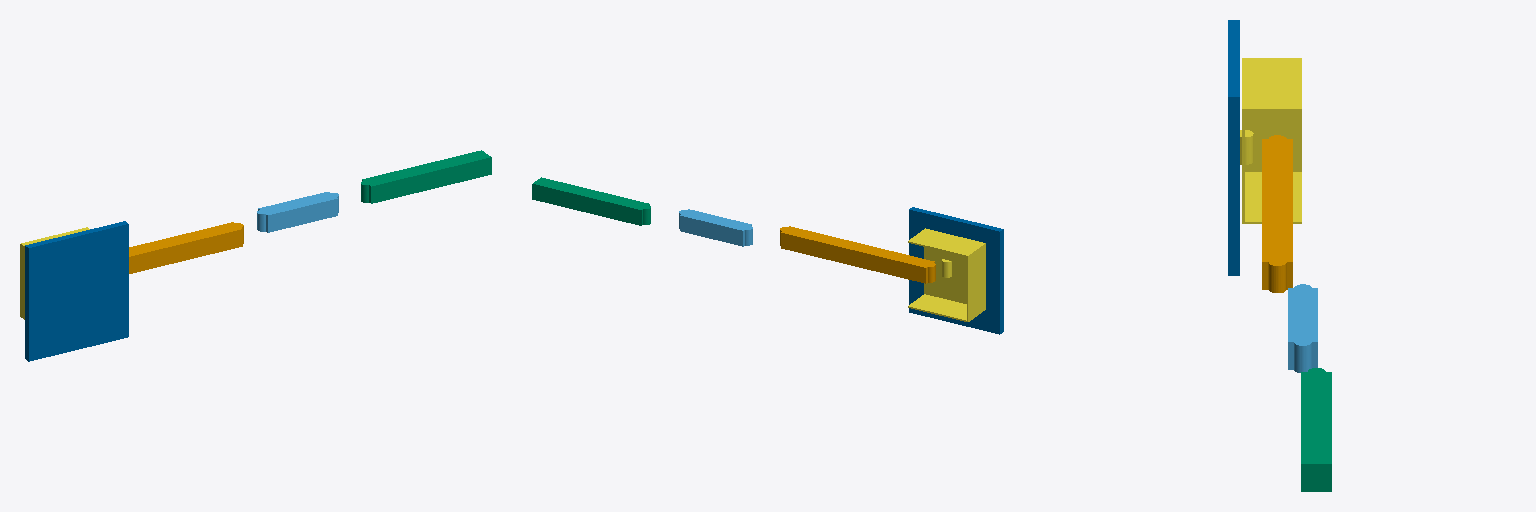
The robot description file, URDF, robot "dupe_arm":
<?xml version = "1.0" ?>
<robot name = "dupe_arm">

    <link name = "link1_1">
        <visual>
            <origin xyz = "0.194096 0.117658 -0.012500" rpy = "0 0 0"/>
            <geometry>
                <mesh filename = "package://trial_links/meshes/link1_1.stl" scale = "0.01 0.01 0.01"/>
            </geometry>
        </visual>
        <collision>
            <origin xyz = "0.194096 0.117658 -0.012500" rpy = "0 0 0"/>
            <geometry>
                <mesh filename = "package://trial_links/meshes/link1_1.stl" scale = "0.01 0.01 0.01"/>
            </geometry>
        </collision>
        <inertial>
            <origin xyz = "0.194096 0.117658 -0.012500" rpy = "0 0 0"/>
            <mass value = "9.697442"/>
            <inertia ixx = "0.002042" ixy = "-0.003134" ixz = "0.000235" iyy = "0.005022" iyz = "0.000143" izz = "0.006993"/>
        </inertial>
    </link>
    
    <link name = "link2_1">
        <visual>
            <origin xyz = "0.492115 0.282493 -0.012500" rpy = "0 0 0"/>
            <geometry>
                <mesh filename = "package://trial_links/meshes/link2_1.stl" scale = "0.01 0.01 0.01"/>
            </geometry>
        </visual>
        <collision>
            <origin xyz = "0.492115 0.282493 -0.012500" rpy = "0 0 0"/>
            <geometry>
                <mesh filename = "package://trial_links/meshes/link2_1.stl" scale = "0.01 0.01 0.01"/>
            </geometry>
        </collision>
        <inertial>
            <origin xyz = "0.492115 0.282493 -0.012500" rpy = "0 0 0"/>
            <mass value = "4.398692"/>
            <inertia ixx = "0.003547" ixy = "-0.006159" ixz = "0.000271" iyy = "0.010843" iyz = "0.000155" izz = "0.014358"/>
        </inertial>
    </link>
    
    <link name = "link3_1">
        <visual>
            <origin xyz = "0.728676 0.196274 -0.012500" rpy = "0 0 0"/>
            <geometry>
                <mesh filename = "package://trial_links/meshes/link3_1.stl" scale = "0.01 0.01 0.01"/>
            </geometry>
        </visual>
        <collision>
            <origin xyz = "0.728676 0.196274 -0.012500" rpy = "0 0 0"/>
            <geometry>
                <mesh filename = "package://trial_links/meshes/link3_1.stl" scale = "0.01 0.01 0.01"/>
            </geometry>
        </collision>
        <inertial>
            <origin xyz = "0.728676 0.196274 -0.012500" rpy = "0 0 0"/>
            <mass value = "7.203721"/>
            <inertia ixx = "0.003145" ixy = "-0.009911" ixz = "0.000656" iyy = "0.038757" iyz = "0.000177" izz = "0.041850"/>
        </inertial>
    </link>
    
    <link name = "base_plate_1">
        <visual>
            <origin xyz = "-0.043862 0.004869 -0.012500" rpy = "0 0 0"/>
            <geometry>
                <mesh filename = "package://trial_links/meshes/base_plate_1.stl" scale = "0.01 0.01 0.01"/>
            </geometry>
        </visual>
        <collision>
            <origin xyz = "-0.043862 0.004869 -0.012500" rpy = "0 0 0"/>
            <geometry>
                <mesh filename = "package://trial_links/meshes/base_plate_1.stl" scale = "0.01 0.01 0.01"/>
            </geometry>
        </collision>
        <inertial>
            <origin xyz = "-0.043862 0.004869 -0.012500" rpy = "0 0 0"/>
            <mass value = "4.102668"/>
            <inertia ixx = "0.000292" ixy = "0.000026" ixz = "-0.000022" iyy = "0.000494" iyz = "0.000002" izz = "0.000288"/>
        </inertial>
    </link>
    
    <link name = "base_link">
        <visual>
            <origin xyz = "-0.025000 -0.035000 -0.012500" rpy = "0 0 0"/>
            <geometry>
                <mesh filename = "package://trial_links/meshes/base_link.stl" scale = "0.01 0.01 0.01"/>
            </geometry>
        </visual>
        <collision>
            <origin xyz = "-0.025000 -0.035000 -0.012500" rpy = "0 0 0"/>
            <geometry>
                <mesh filename = "package://trial_links/meshes/base_link.stl" scale = "0.01 0.01 0.01"/>
            </geometry>
        </collision>
        <inertial>
            <origin xyz = "-0.025000 -0.035000 -0.012500" rpy = "0 0 0"/>
            <mass value = "15.307500"/>
            <inertia ixx = "0.001564" ixy = "-0.000134" ixz = "-0.000048" iyy = "0.002615" iyz = "-0.000067" izz = "0.001436"/>
        </inertial>
    </link>
    
    <joint name = "Revolute 4" type = "continuous">
        <origin xyz = "-0.002500 -0.020000 0.012500" rpy = "0 0 0"/>
        <parent link = "base_plate_1"/>
        <child link = "link1_1"/>
        <axis xyz = "0.000000 0.000000 1.000000"/>
    </joint>
    
    <joint name = "Revolute 5" type = "continuous">
        <origin xyz = "0.390693 0.255317 -0.012500" rpy = "0 0 0"/>
        <parent link = "link1_1"/>
        <child link = "link2_1"/>
        <axis xyz = "-0.000000 0.000000 1.000000"/>
    </joint>
    
    <joint name = "Revolute 6" type = "continuous">
        <origin xyz = "0.593537 0.309669 -0.012500" rpy = "0 0 0"/>
        <parent link = "link2_1"/>
        <child link = "link3_1"/>
        <axis xyz = "-0.000000 0.000000 1.000000"/>
    </joint>
    
    <joint name = "Revolute 7" type = "continuous">
        <origin xyz = "-0.025000 -0.020000 -0.012500" rpy = "0 0 0"/>
        <parent link = "base_link"/>
        <child link = "base_plate_1"/>
        <axis xyz = "0.000000 -1.000000 0.000000"/>
    </joint>
    
</robot>

--- Render facts (derived) ---
Views: 3 orthographic renders of the robot side by side, from view 1: azimuth 30°, elevation 25°; view 2: azimuth 150°, elevation 25°; view 3: azimuth 270°, elevation 25°.
Model dupe_arm with 5 links and 4 joints (4 continuous), rooted at base_link, posed every joint at zero.
Visible links, largest first — view 1: base_link, link3_1, link1_1, link2_1, base_plate_1; view 2: base_plate_1, base_link, link1_1, link3_1, link2_1; view 3: base_plate_1, link1_1, link3_1, base_link, link2_1.
Link boxes in pixels (x1,y1,x2,y2): base_link: (25,221,128,361); link3_1: (361,150,491,203); link1_1: (129,222,243,273); link2_1: (257,192,338,232); base_plate_1: (20,227,89,319); base_plate_1: (908,228,985,321); base_link: (909,207,1003,334); link1_1: (780,226,935,283); link3_1: (532,177,650,225); link2_1: (679,209,752,246); base_plate_1: (1240,58,1301,223); link1_1: (1262,135,1292,292); link3_1: (1301,368,1331,491); base_link: (1228,20,1239,275); link2_1: (1288,284,1317,372).
Bounding box of the posed robot: 14.56 × 1.71 × 3.25 m (x, y, z).
5 mesh visuals loaded from 5 distinct referenced files (5 binary STL).
